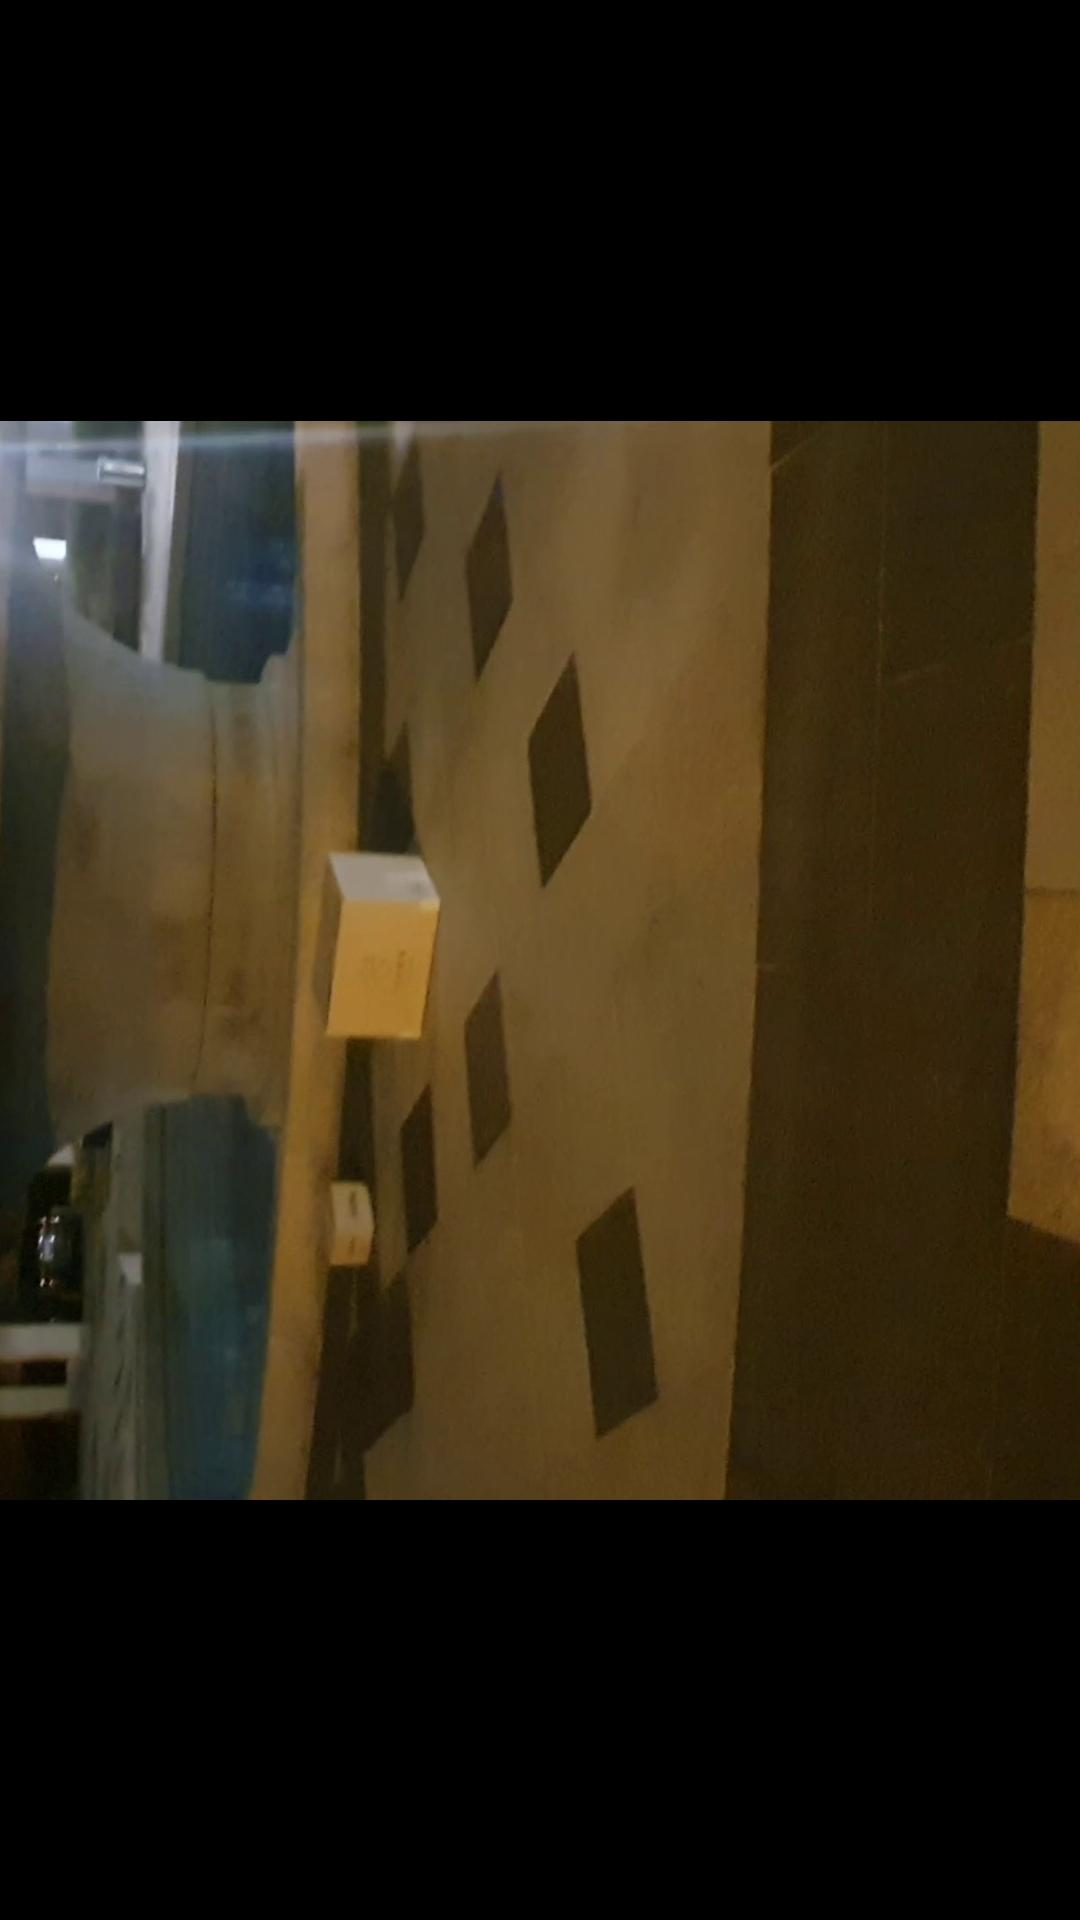Box: (315, 841, 452, 1047), (301, 1175, 377, 1287)
